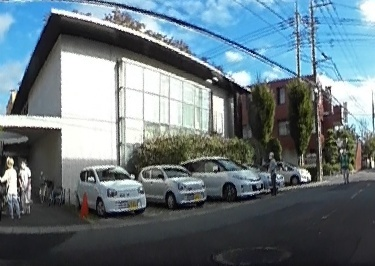person: (2, 158, 20, 215), (15, 158, 31, 211), (265, 151, 280, 192), (338, 148, 350, 180)
